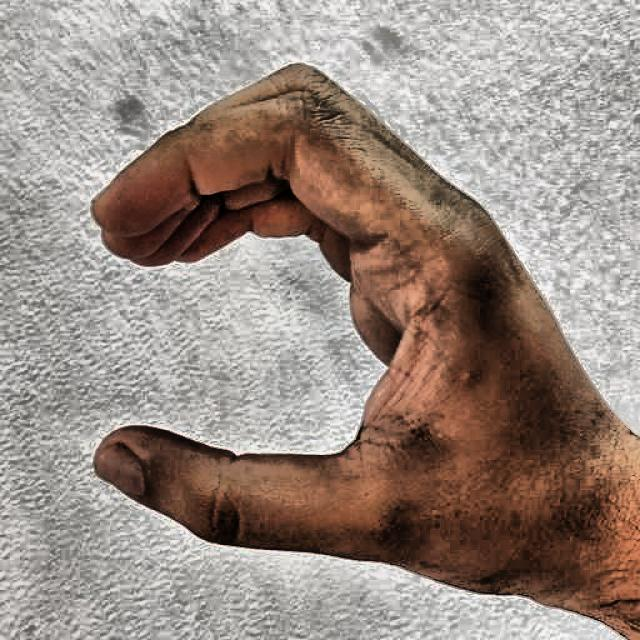Ka: (54, 40, 577, 616)
